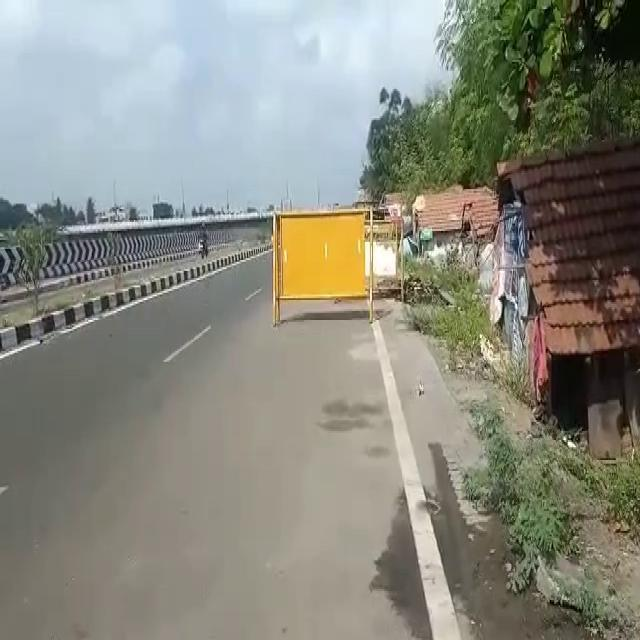fallen_object: (257, 193, 384, 335)
